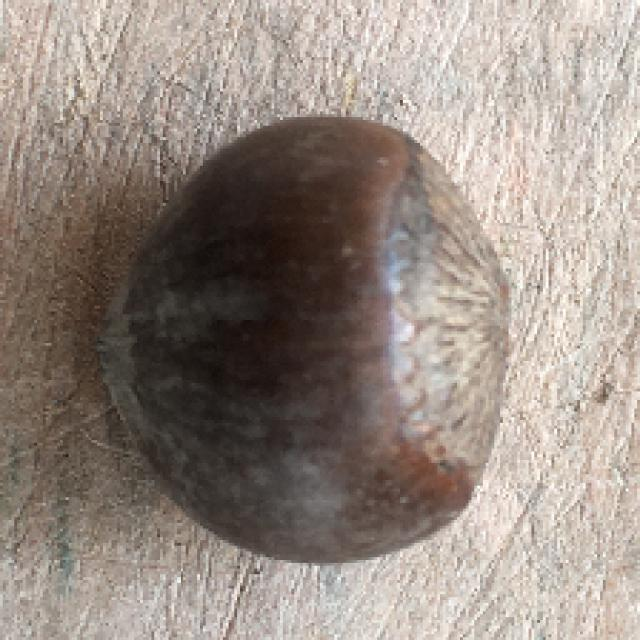DamagedHazelnut: (108, 118, 511, 567)
